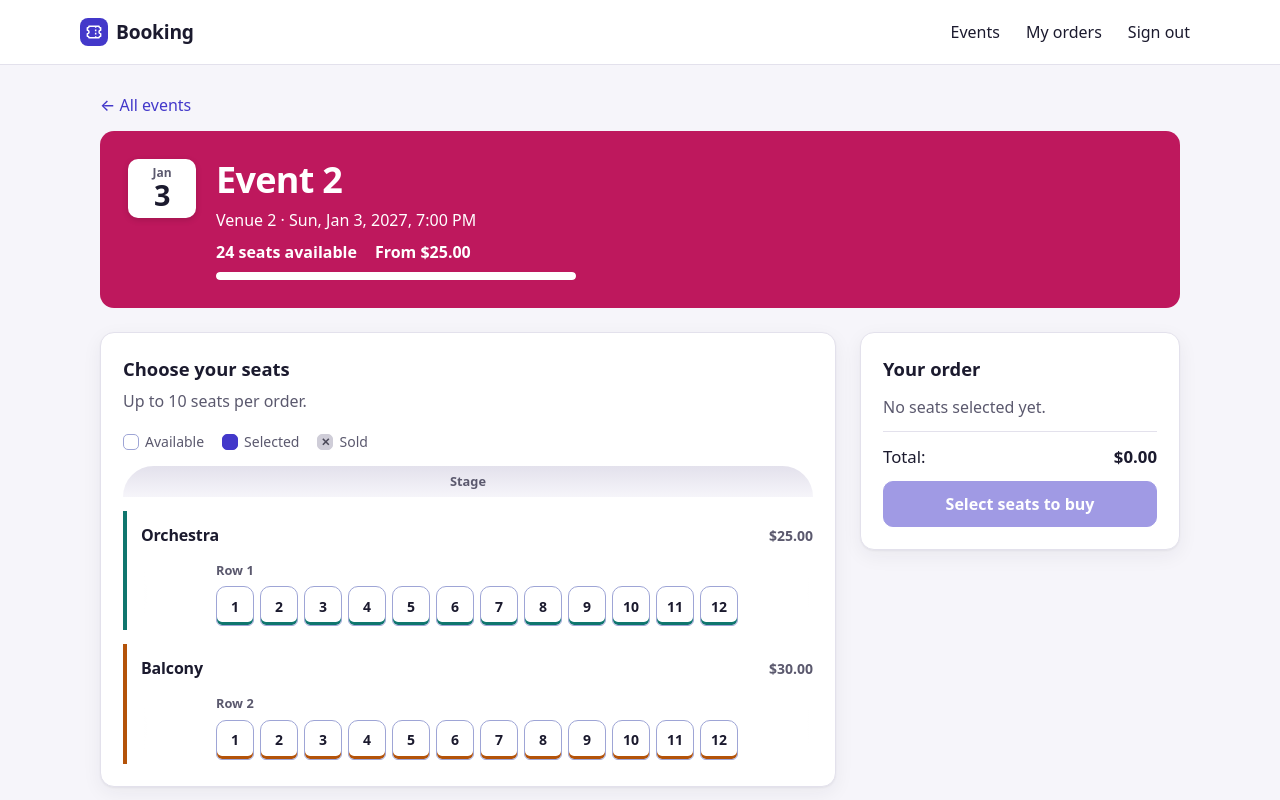
Test case: EventPage › buys seats and shows the confirmation
Click the button "3" below "Orchestra" at (323, 606), box [304, 586, 342, 626]
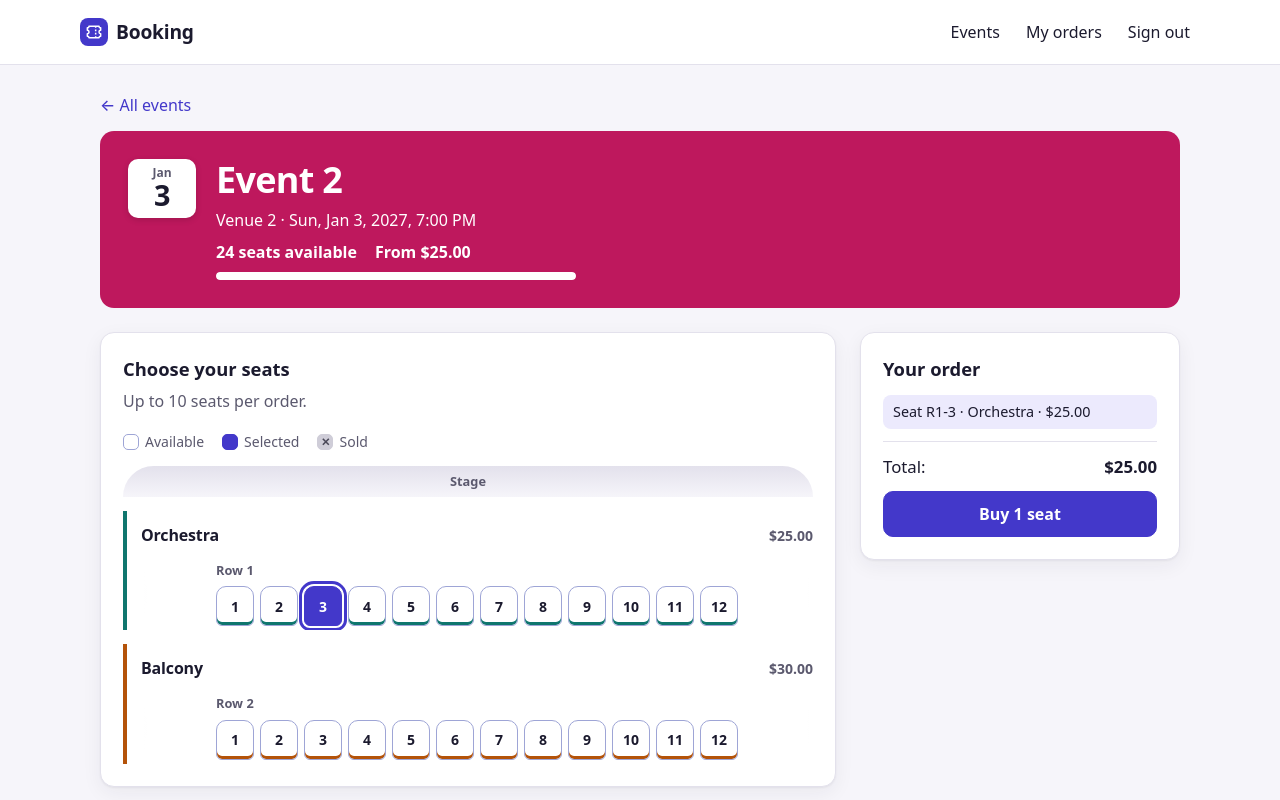
Click the button "Buy 1 seat" at (1020, 514), box [883, 491, 1157, 537]
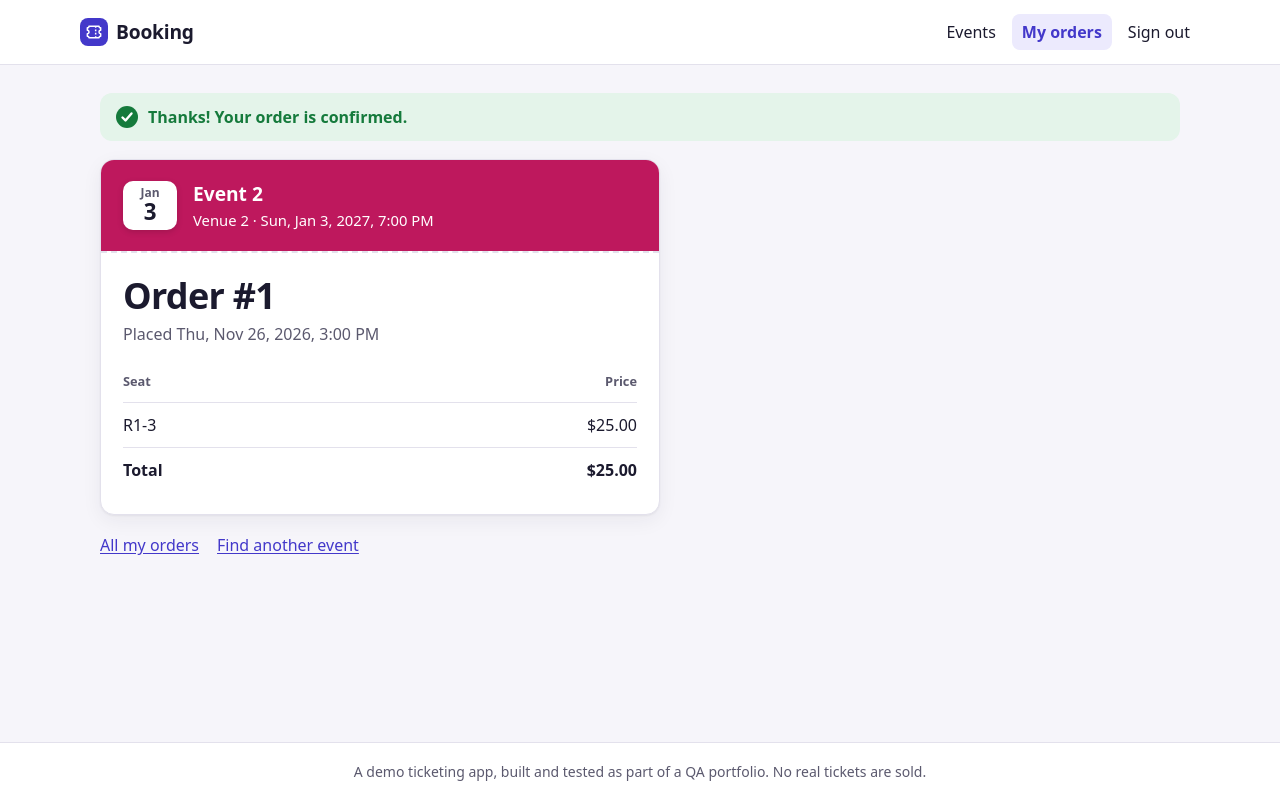
Expected: the cell with test id "order-detail-total" reads "$25.00", [587, 459, 637, 481]
Expected: the message with test id "order-confirmation" shows "confirmed", [148, 106, 407, 128]
Expected: the heading "Order #1" is shown, [123, 271, 275, 320]
